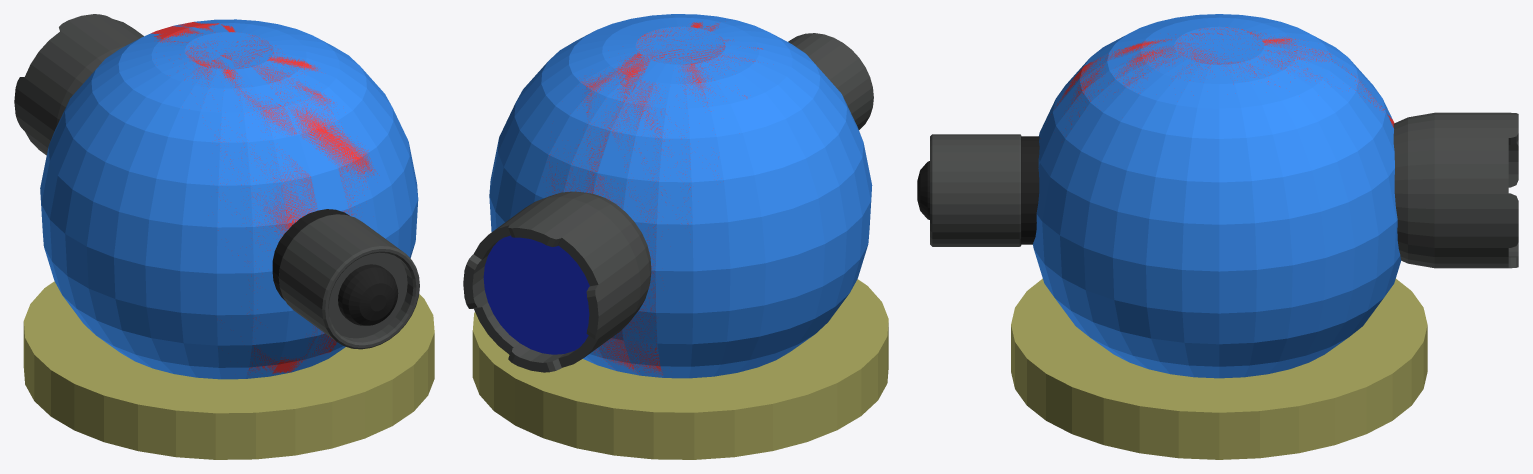
The picture shows the model from 3 angles, left to right: view 1: azimuth 30°, elevation 25°; view 2: azimuth 150°, elevation 25°; view 3: azimuth 270°, elevation 25°; orthographic projection.
Visible parts, largest first — view 1: InvBallStatueBlue, InvBlacklightFlashlight, InvBallStatueRed; view 2: InvBallStatueBlue, InvBlacklightFlashlight, InvBallStatueRed; view 3: InvBallStatueBlue, InvBlacklightFlashlight, InvBallStatueRed.
Boxes of the visible parts, box(x1,y1,x2,y2) form: InvBallStatueBlue: box(23, 19, 434, 459); InvBlacklightFlashlight: box(14, 14, 419, 349); InvBallStatueRed: box(23, 22, 434, 455); InvBallStatueBlue: box(472, 14, 888, 459); InvBlacklightFlashlight: box(463, 33, 873, 372); InvBallStatueRed: box(476, 22, 887, 455); InvBallStatueBlue: box(1011, 14, 1427, 459); InvBlacklightFlashlight: box(917, 112, 1518, 268); InvBallStatueRed: box(1011, 27, 1427, 406).
Bounding box in the file's own units: 0.4 × 0.3455 × 0.5777.
4 materials, 4 textured.
